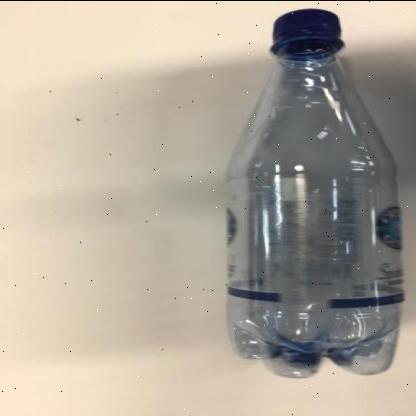Plastic Bottle: (228, 7, 404, 377)
